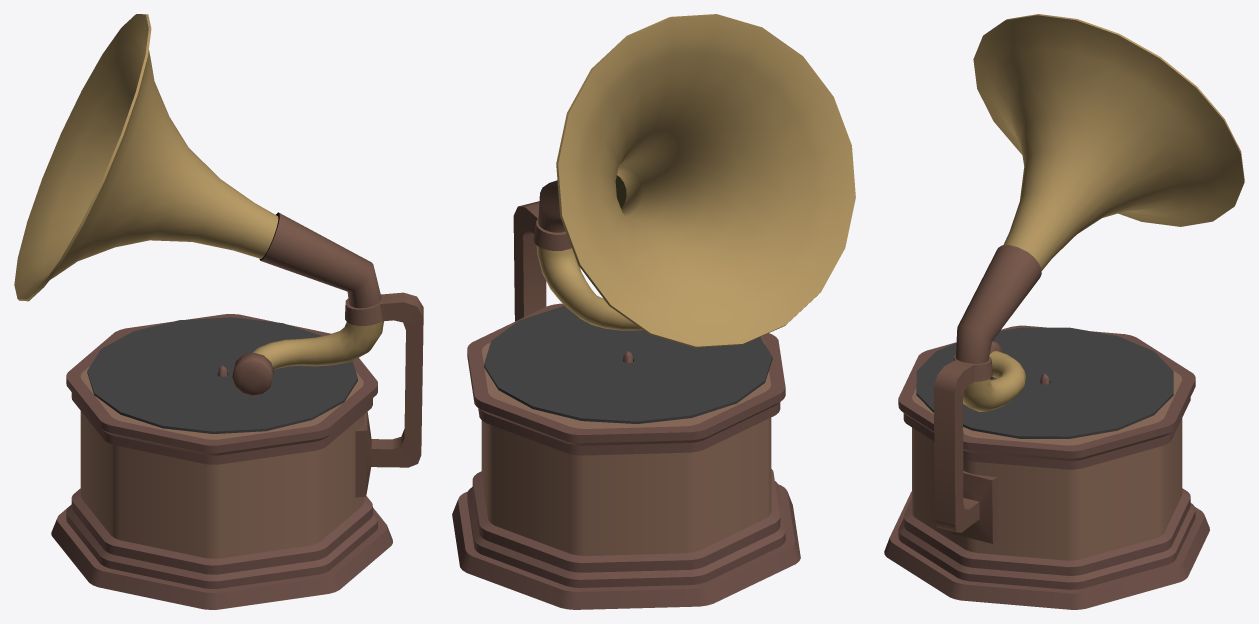
Rendered from Gramophone.fbx.
The picture shows the model from 3 angles, left to right: view 1: azimuth 30°, elevation 25°; view 2: azimuth 150°, elevation 25°; view 3: azimuth 270°, elevation 25°; orthographic projection. The views are drawn at different scales.
Visible parts, largest first — view 1: Gramophone_Body, Gramophone_Disk; view 2: Gramophone_Body, Gramophone_Disk; view 3: Gramophone_Body, Gramophone_Disk.
Part boxes in pixels (<box>): Gramophone_Body: <box>14,14,423,609</box>; Gramophone_Disk: <box>87,317,357,433</box>; Gramophone_Body: <box>452,14,855,609</box>; Gramophone_Disk: <box>484,305,772,423</box>; Gramophone_Body: <box>884,14,1244,609</box>; Gramophone_Disk: <box>916,327,1173,438</box>.
Size of the model in its own units: 56.85 by 80.27 by 53.01.
